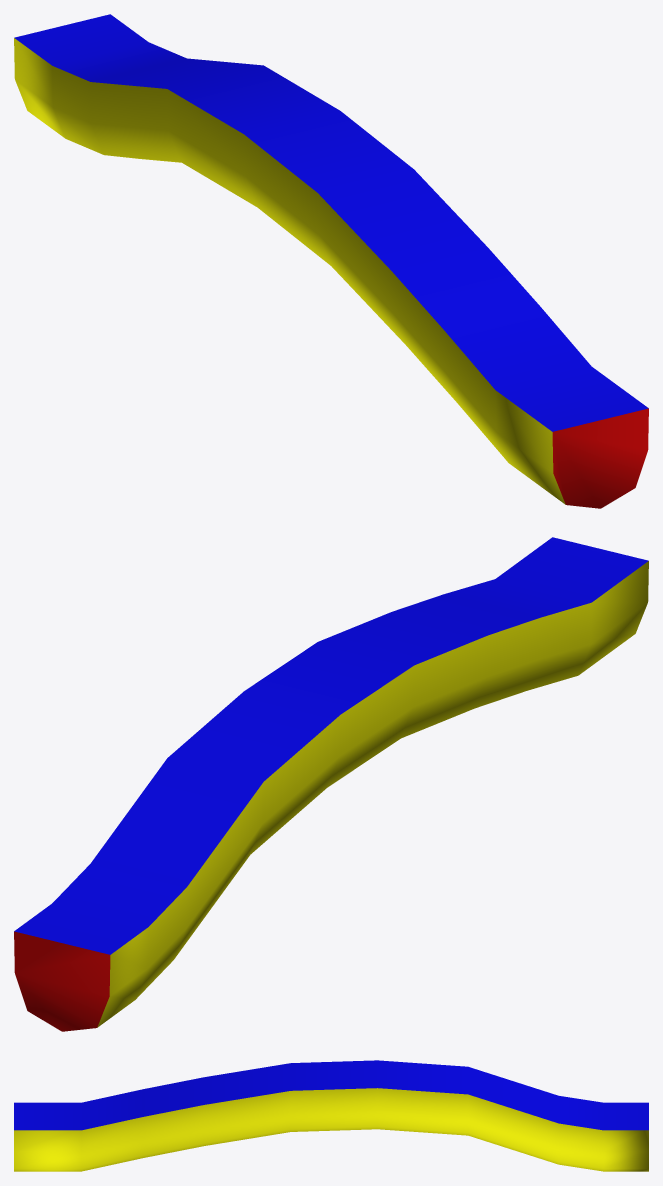
3 views of the same model, one above another, from view 1: azimuth 30°, elevation 25°; view 2: azimuth 150°, elevation 25°; view 3: azimuth 270°, elevation 25° (orthographic). The views are drawn at different scales.
Parts seen in each view (by area): view 1: polySurface115; view 2: polySurface115; view 3: polySurface115.
Boxes of the visible parts, x1=… form: polySurface115: x1=14, y1=14, x2=648, y2=508; polySurface115: x1=14, y1=537, x2=648, y2=1031; polySurface115: x1=14, y1=1060, x2=648, y2=1171.
Size of the model in its own units: 23.58 by 37.46 by 228.
